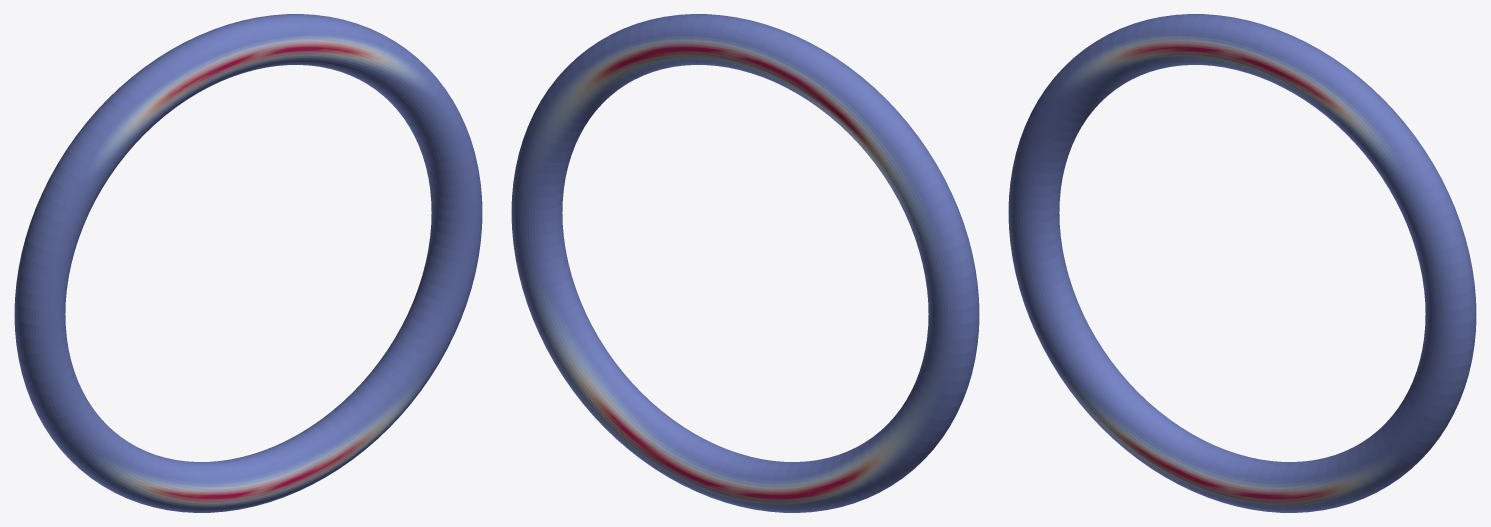
3 renders of one model, left to right at view 1: azimuth 30°, elevation 25°; view 2: azimuth 150°, elevation 25°; view 3: azimuth 330°, elevation 25°, orthographic.
Parts seen in each view (by area): view 1: world; view 2: world; view 3: world.
Boxes of the visible parts, left/top/right/bottom form: world: left=14, top=14, right=482, bottom=512; world: left=511, top=14, right=979, bottom=512; world: left=1008, top=14, right=1476, bottom=512.
Size of the model in its own units: 20.89 by 20.89 by 2.
